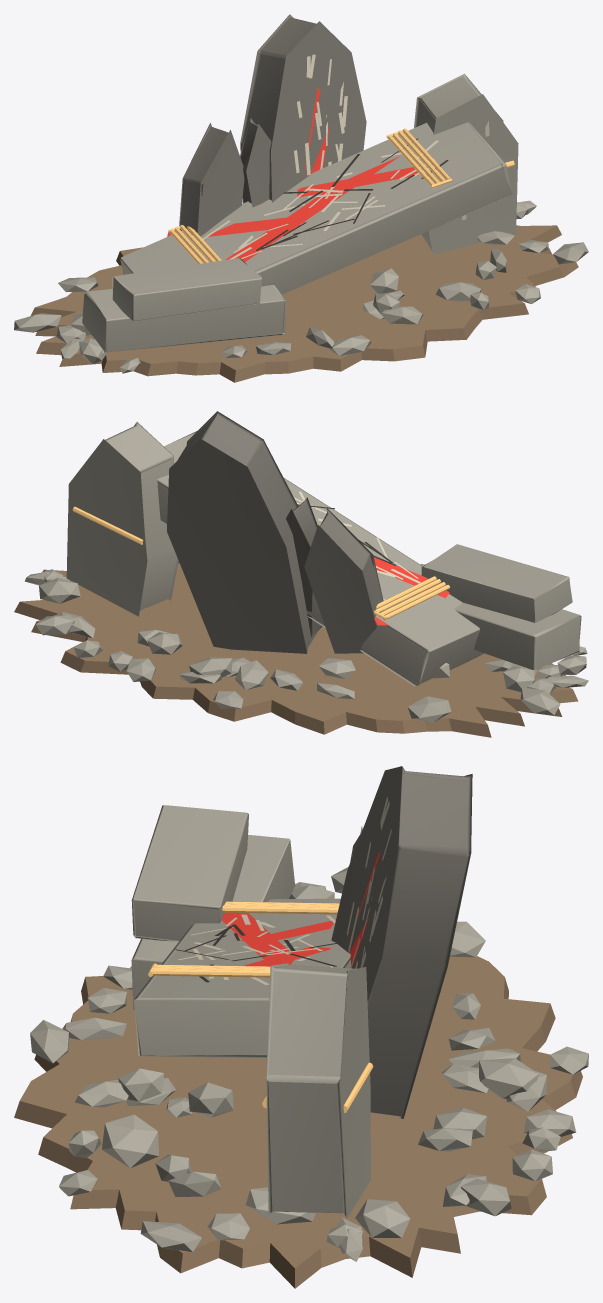
Rendered from SM_GIA_BloodAxeCairnSlabCluster_A01_SculptedMidpoly_LOD0.fbx.
3 views of the same model, one above another, from view 1: azimuth 30°, elevation 25°; view 2: azimuth 150°, elevation 25°; view 3: azimuth 270°, elevation 25° (orthographic). The views are drawn at different scales.
Parts seen in each view (by area): view 1: A1_Sculpted_AshMudBase_LOD0, A1_Sculpted_MainPaintedFallenSlab_LOD0, A1_Sculpted_RearTallBrokenSlab_LOD0, A1_Sculpted_LeftStackLowSlab_LOD0, A1_Sculpted_RightBoundUpright_LOD0, A1_Sculpted_LeftStackTopSlab_LOD0, A1_Sculpted_LeftRearShard_LOD0, A1_Sculpted_CenterNeedleShard_LOD0, A1_Sculpted_MainRedLongStroke_LOD0, A1_Sculpted_MainRedCrossB_LOD0, A1_Sculpted_MainRedCrossA_LOD0, A1_Sculpted_Rubble_04_LOD0 (+6 smaller); view 2: A1_Sculpted_AshMudBase_LOD0, A1_Sculpted_RearTallBrokenSlab_LOD0, A1_Sculpted_RightBoundUpright_LOD0, A1_Sculpted_MainPaintedFallenSlab_LOD0, A1_Sculpted_LeftRearShard_LOD0, A1_Sculpted_LeftStackTopSlab_LOD0, A1_Sculpted_LeftStackLowSlab_LOD0, A1_Sculpted_CenterNeedleShard_LOD0, A1_Sculpted_Rubble_62_LOD0, A1_Sculpted_Rubble_69_LOD0, A1_Sculpted_Rubble_04_LOD0, A1_Sculpted_Rubble_23_LOD0 (+12 smaller); view 3: A1_Sculpted_AshMudBase_LOD0, A1_Sculpted_RearTallBrokenSlab_LOD0, A1_Sculpted_RightBoundUpright_LOD0, A1_Sculpted_MainPaintedFallenSlab_LOD0, A1_Sculpted_LeftStackTopSlab_LOD0, A1_Sculpted_LeftStackLowSlab_LOD0, A1_Sculpted_Rubble_65_LOD0, A1_Sculpted_Rubble_11_LOD0, A1_Sculpted_Rubble_69_LOD0, A1_Sculpted_Rubble_30_LOD0, A1_Sculpted_Rubble_56_LOD0, A1_Sculpted_Rubble_10_LOD0 (+27 smaller).
Boxes of the visible parts, x1,y1,x2,y2 form: A1_Sculpted_AshMudBase_LOD0: (30, 225, 578, 382); A1_Sculpted_MainPaintedFallenSlab_LOD0: (120, 122, 512, 294); A1_Sculpted_RearTallBrokenSlab_LOD0: (240, 14, 366, 203); A1_Sculpted_LeftStackLowSlab_LOD0: (82, 285, 286, 352); A1_Sculpted_RightBoundUpright_LOD0: (414, 74, 518, 254); A1_Sculpted_LeftStackTopSlab_LOD0: (112, 258, 261, 321); A1_Sculpted_LeftRearShard_LOD0: (179, 123, 244, 236); A1_Sculpted_CenterNeedleShard_LOD0: (240, 118, 271, 207); A1_Sculpted_MainRedLongStroke_LOD0: (225, 156, 399, 261); A1_Sculpted_MainRedCrossB_LOD0: (297, 166, 419, 197); A1_Sculpted_MainRedCrossA_LOD0: (167, 216, 301, 237); A1_Sculpted_Rubble_04_LOD0: (14, 313, 61, 332); A1_Sculpted_AshMudBase_LOD0: (14, 563, 578, 737); A1_Sculpted_RearTallBrokenSlab_LOD0: (167, 411, 318, 653); A1_Sculpted_RightBoundUpright_LOD0: (66, 422, 178, 616); A1_Sculpted_MainPaintedFallenSlab_LOD0: (157, 431, 484, 686); A1_Sculpted_LeftRearShard_LOD0: (304, 509, 383, 653); A1_Sculpted_LeftStackTopSlab_LOD0: (421, 544, 572, 622); A1_Sculpted_LeftStackLowSlab_LOD0: (454, 602, 581, 669); A1_Sculpted_CenterNeedleShard_LOD0: (286, 497, 322, 636); A1_Sculpted_Rubble_62_LOD0: (407, 696, 451, 722); A1_Sculpted_Rubble_69_LOD0: (39, 577, 80, 603); A1_Sculpted_Rubble_04_LOD0: (520, 687, 560, 715); A1_Sculpted_Rubble_23_LOD0: (235, 660, 268, 690); A1_Sculpted_AshMudBase_LOD0: (14, 956, 582, 1288); A1_Sculpted_RearTallBrokenSlab_LOD0: (331, 766, 472, 1118); A1_Sculpted_RightBoundUpright_LOD0: (266, 963, 370, 1218); A1_Sculpted_MainPaintedFallenSlab_LOD0: (134, 898, 350, 1058); A1_Sculpted_LeftStackTopSlab_LOD0: (131, 805, 248, 941); A1_Sculpted_LeftStackLowSlab_LOD0: (131, 834, 295, 1010); A1_Sculpted_Rubble_65_LOD0: (102, 1114, 158, 1168); A1_Sculpted_Rubble_11_LOD0: (479, 1058, 538, 1098); A1_Sculpted_Rubble_69_LOD0: (355, 1199, 410, 1237); A1_Sculpted_Rubble_30_LOD0: (140, 1221, 201, 1251); A1_Sculpted_Rubble_56_LOD0: (460, 1178, 511, 1216); A1_Sculpted_Rubble_10_LOD0: (188, 1082, 233, 1117).
Bounding box in the file's own units: 22154 × 35787 × 15604.
